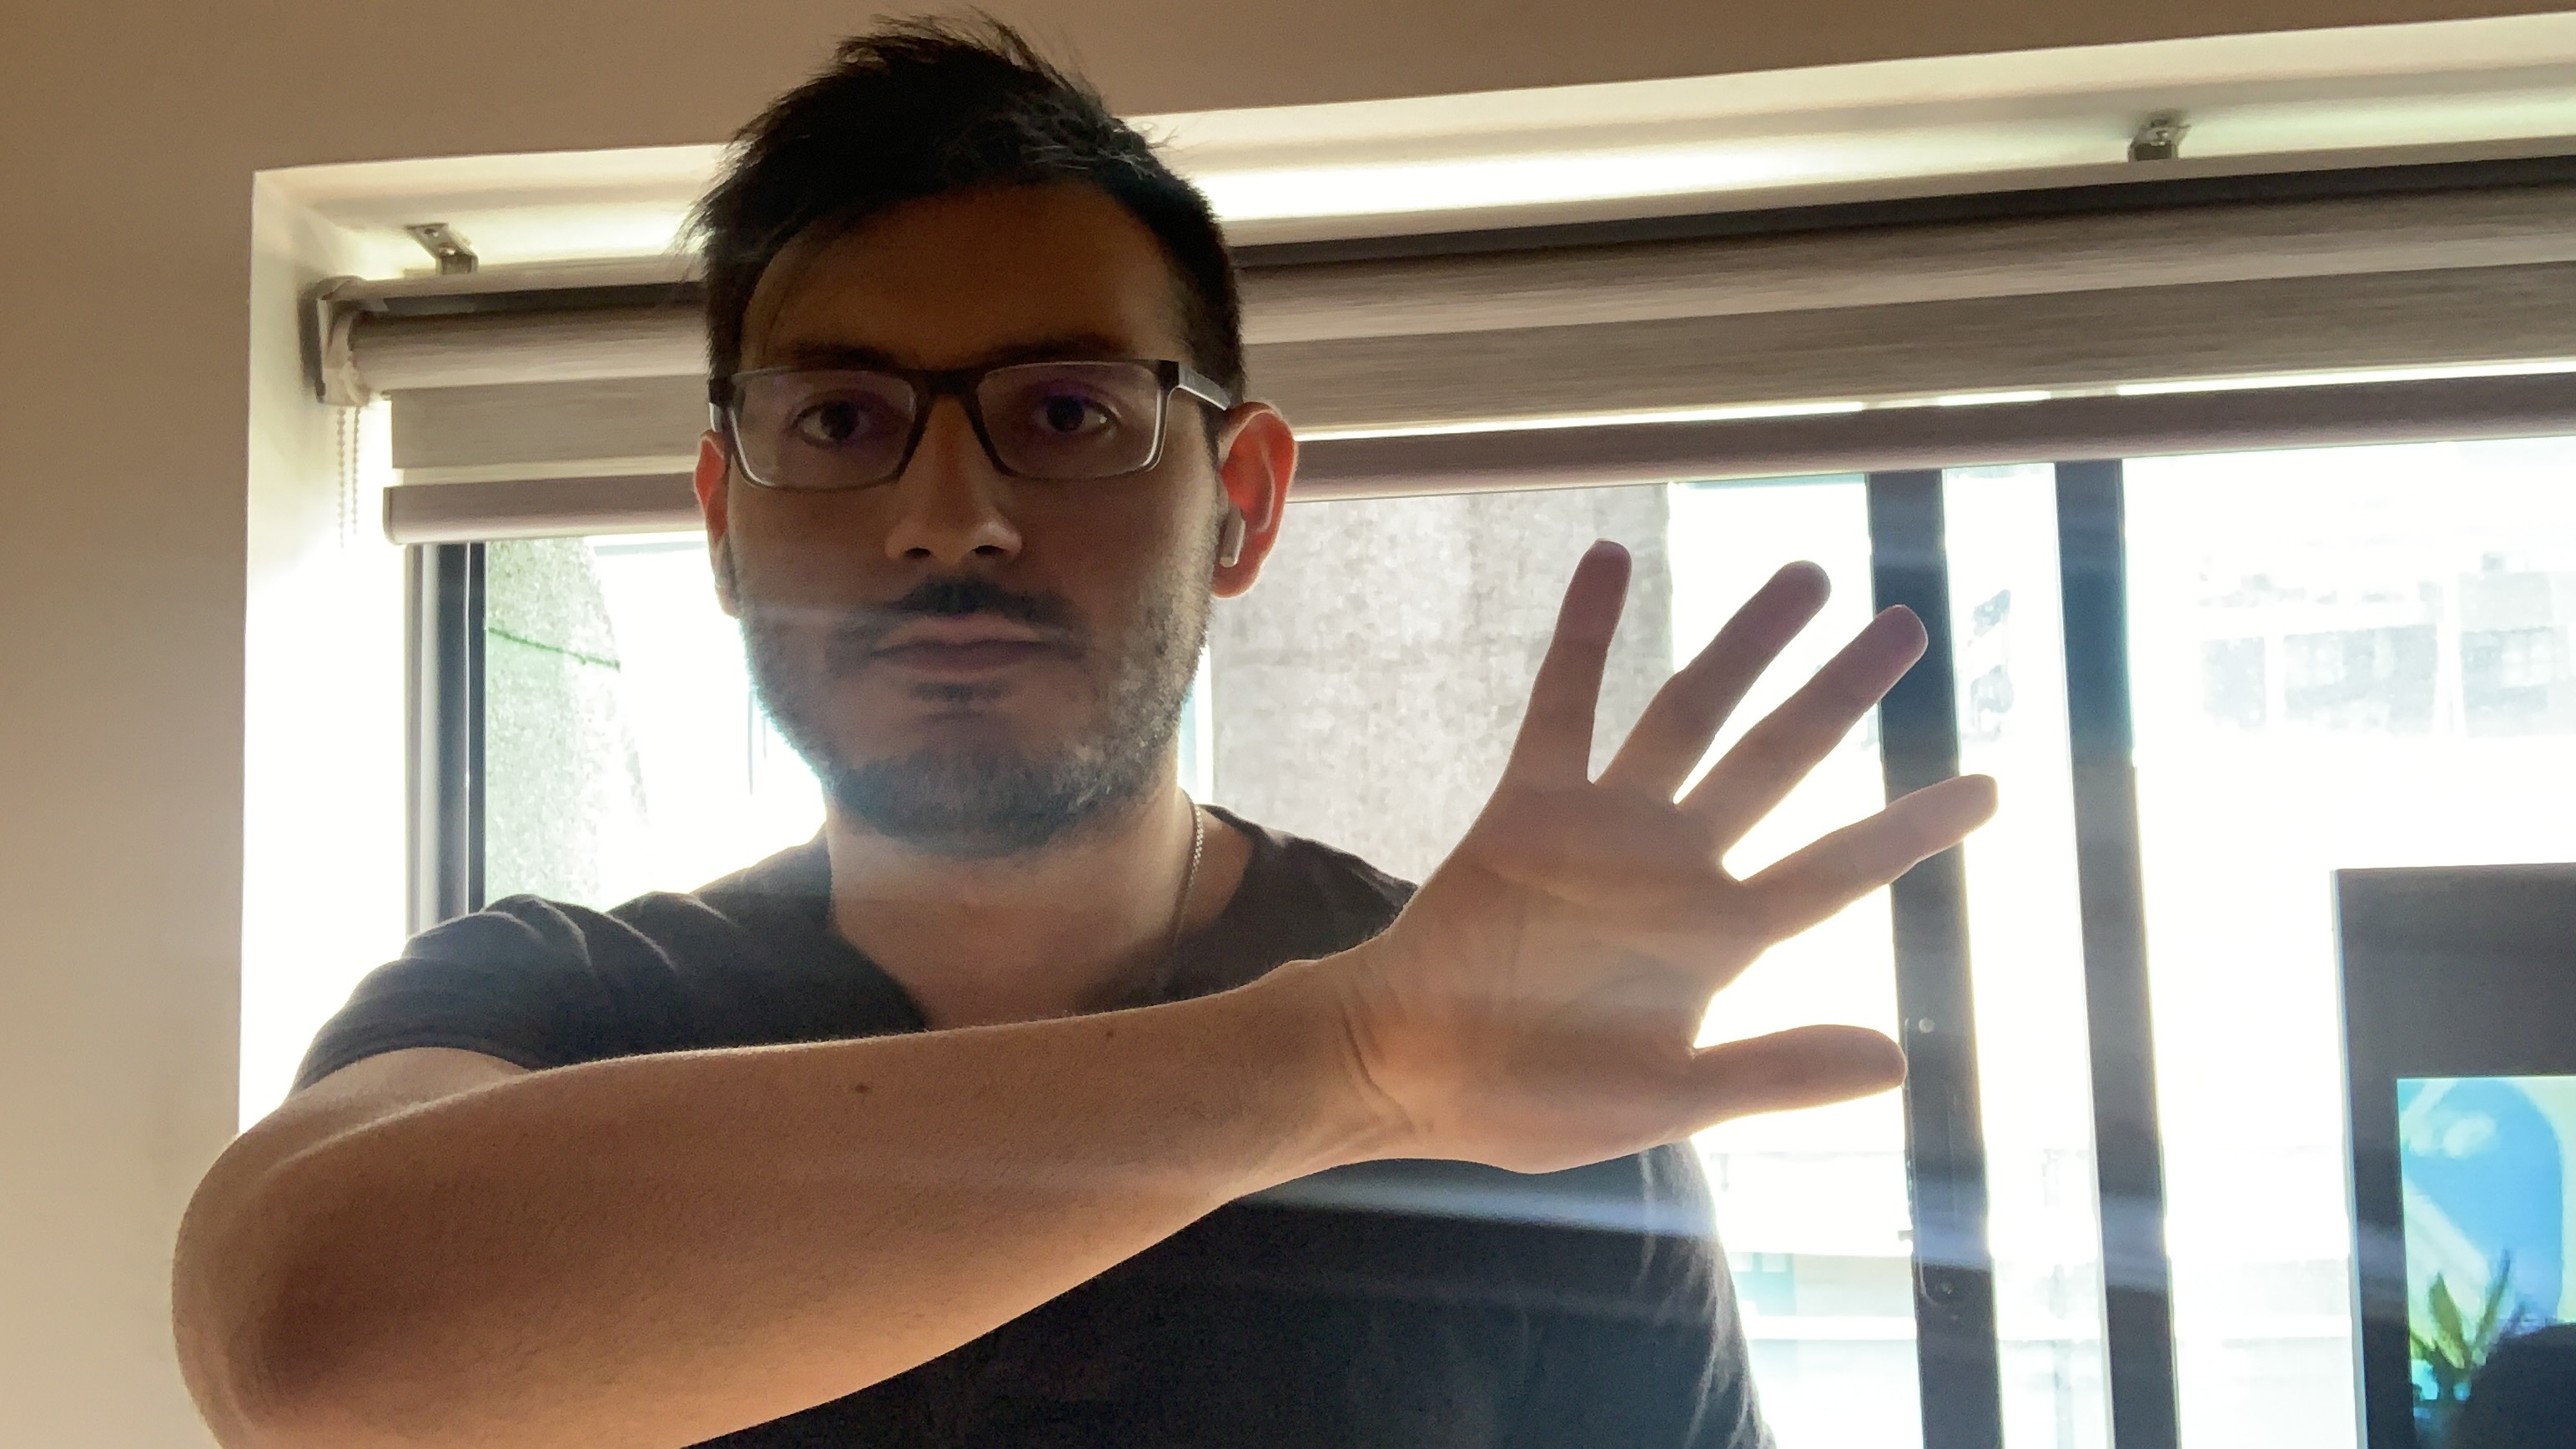Hello: (1361, 533, 2026, 1210)
